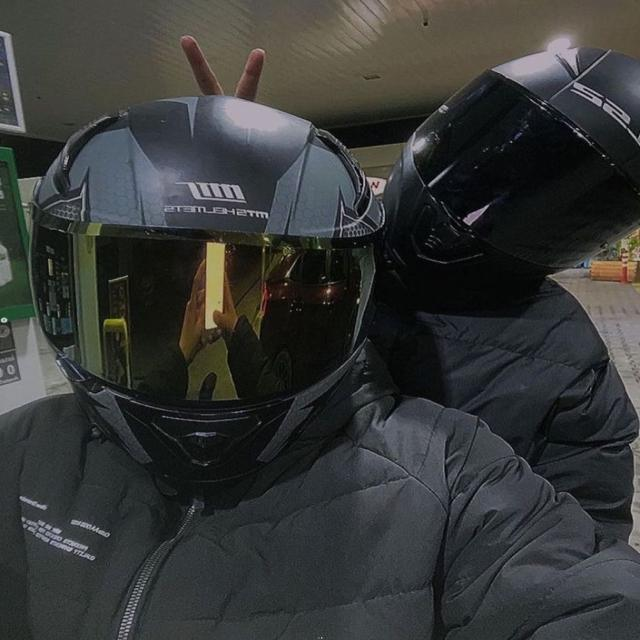helmet: (20, 86, 395, 509), (373, 37, 640, 301)
